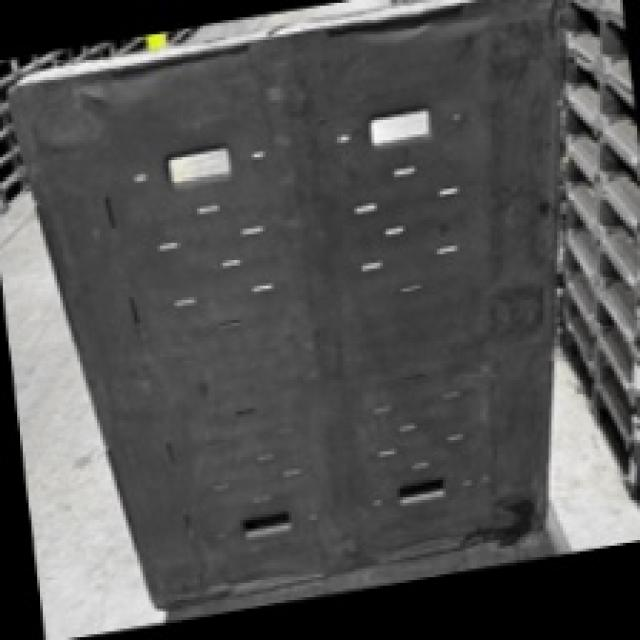igps: (2, 0, 578, 617)
